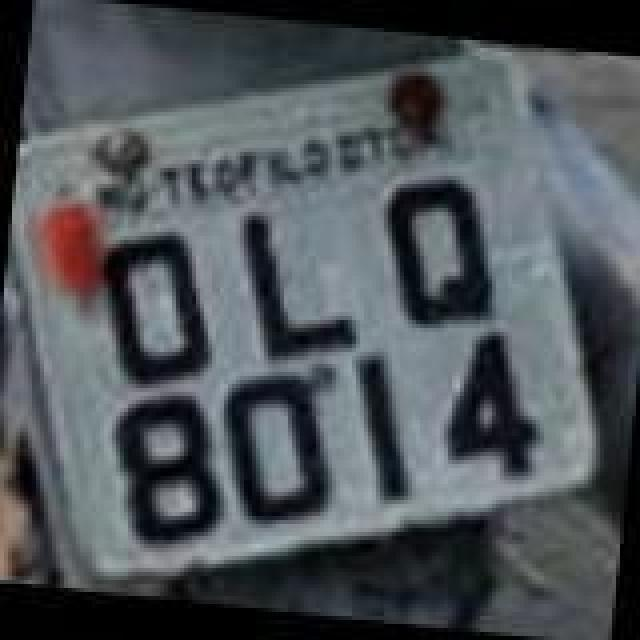1: (334, 344, 426, 504)
4: (432, 324, 552, 484)
8: (102, 386, 234, 550)
L: (220, 206, 372, 370)
O: (90, 222, 230, 386), (204, 364, 340, 532)
Q: (370, 164, 510, 332)
